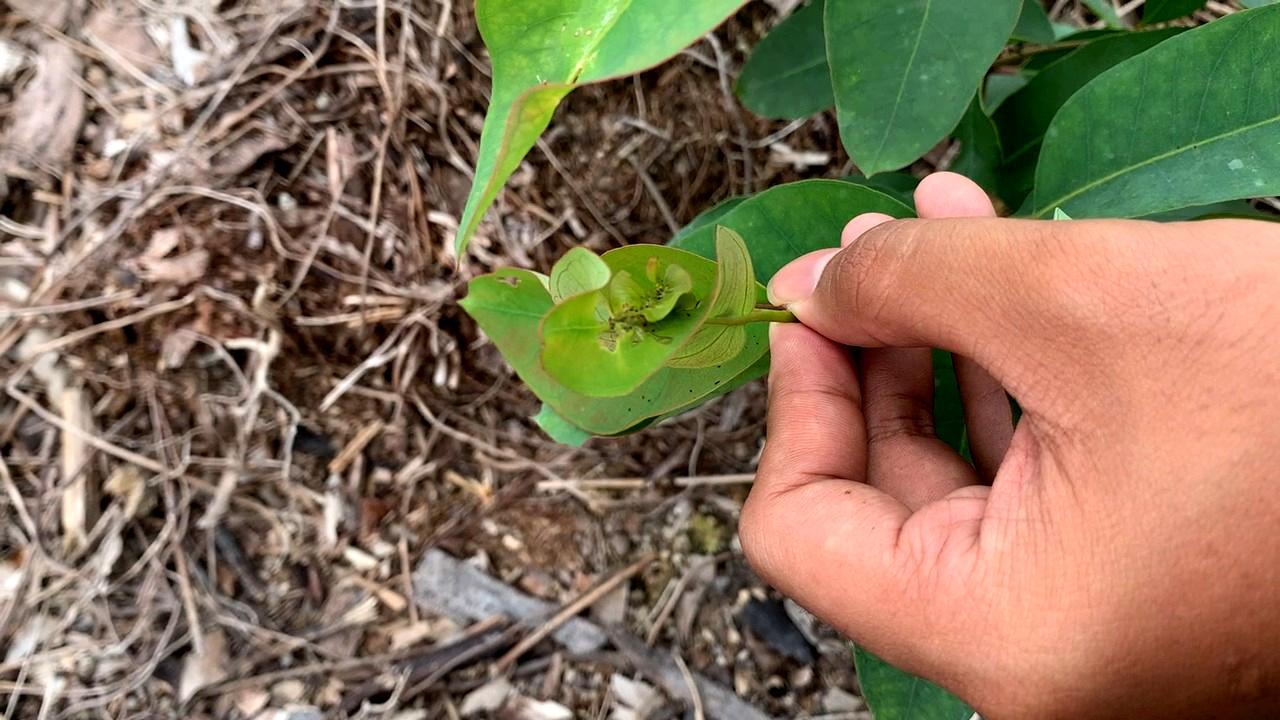Leaf Roller - Leaf: (563, 239, 734, 387)
